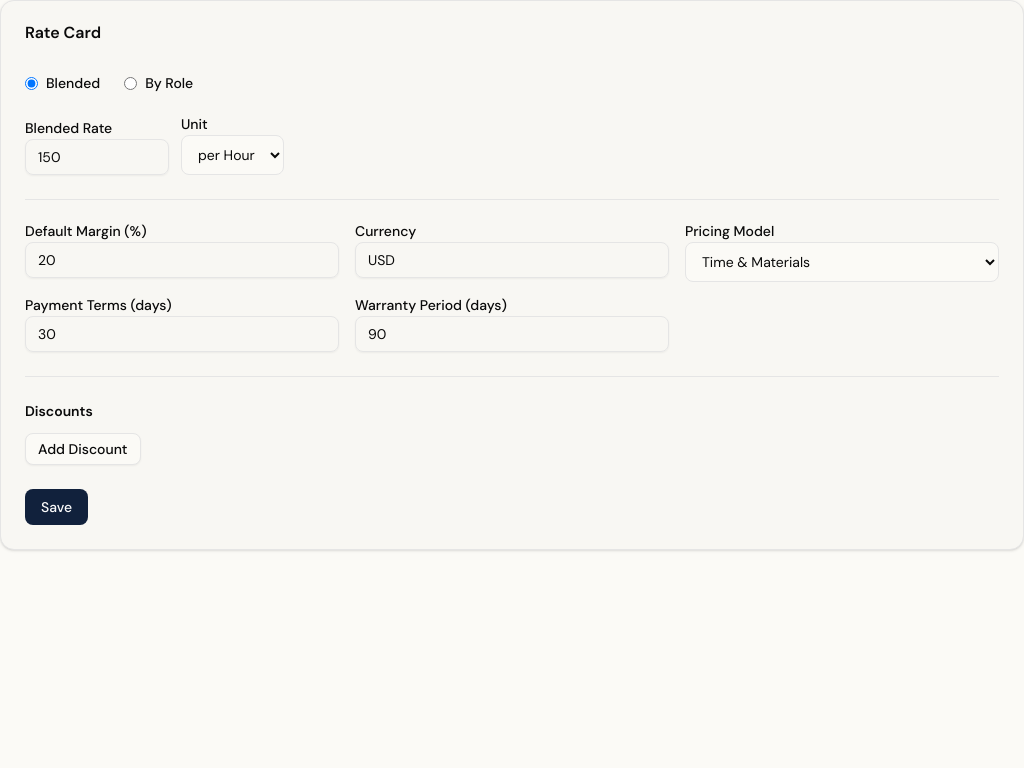
it: Save tests › shows per-field error messages when 422 is returned
The width and height of the screenshot is (1024, 768).
Click the button "Save" at (57, 507), box [25, 489, 88, 525]
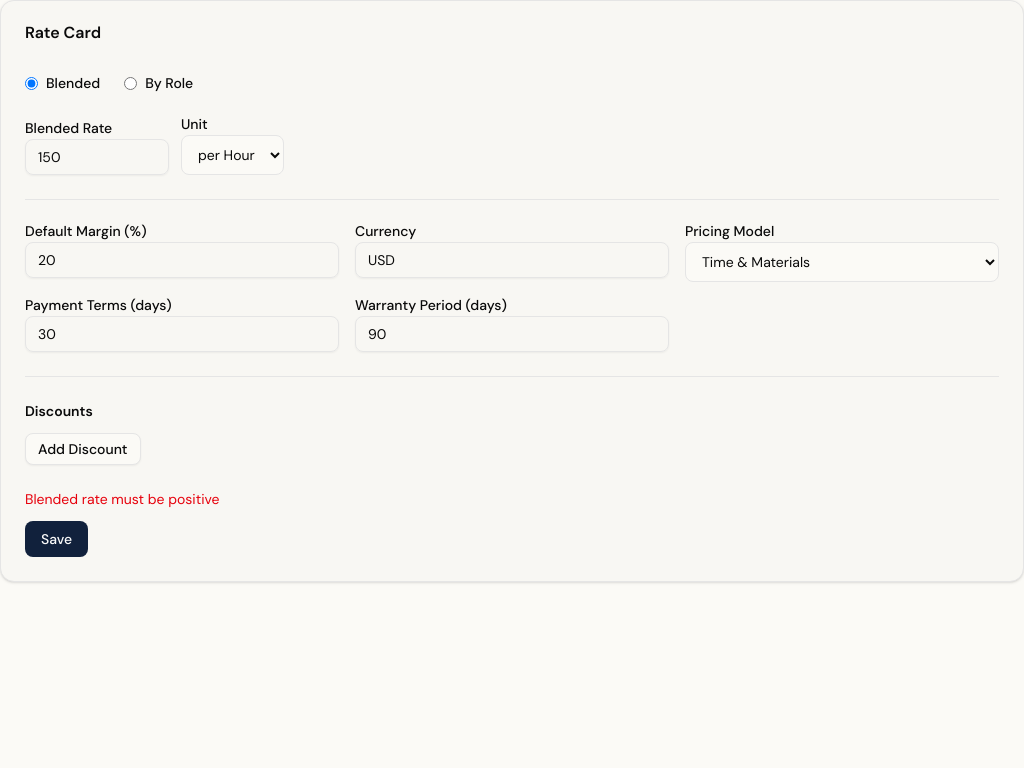
Expected: the list item "Blended rate must be positive" is shown, [25, 490, 220, 508]
